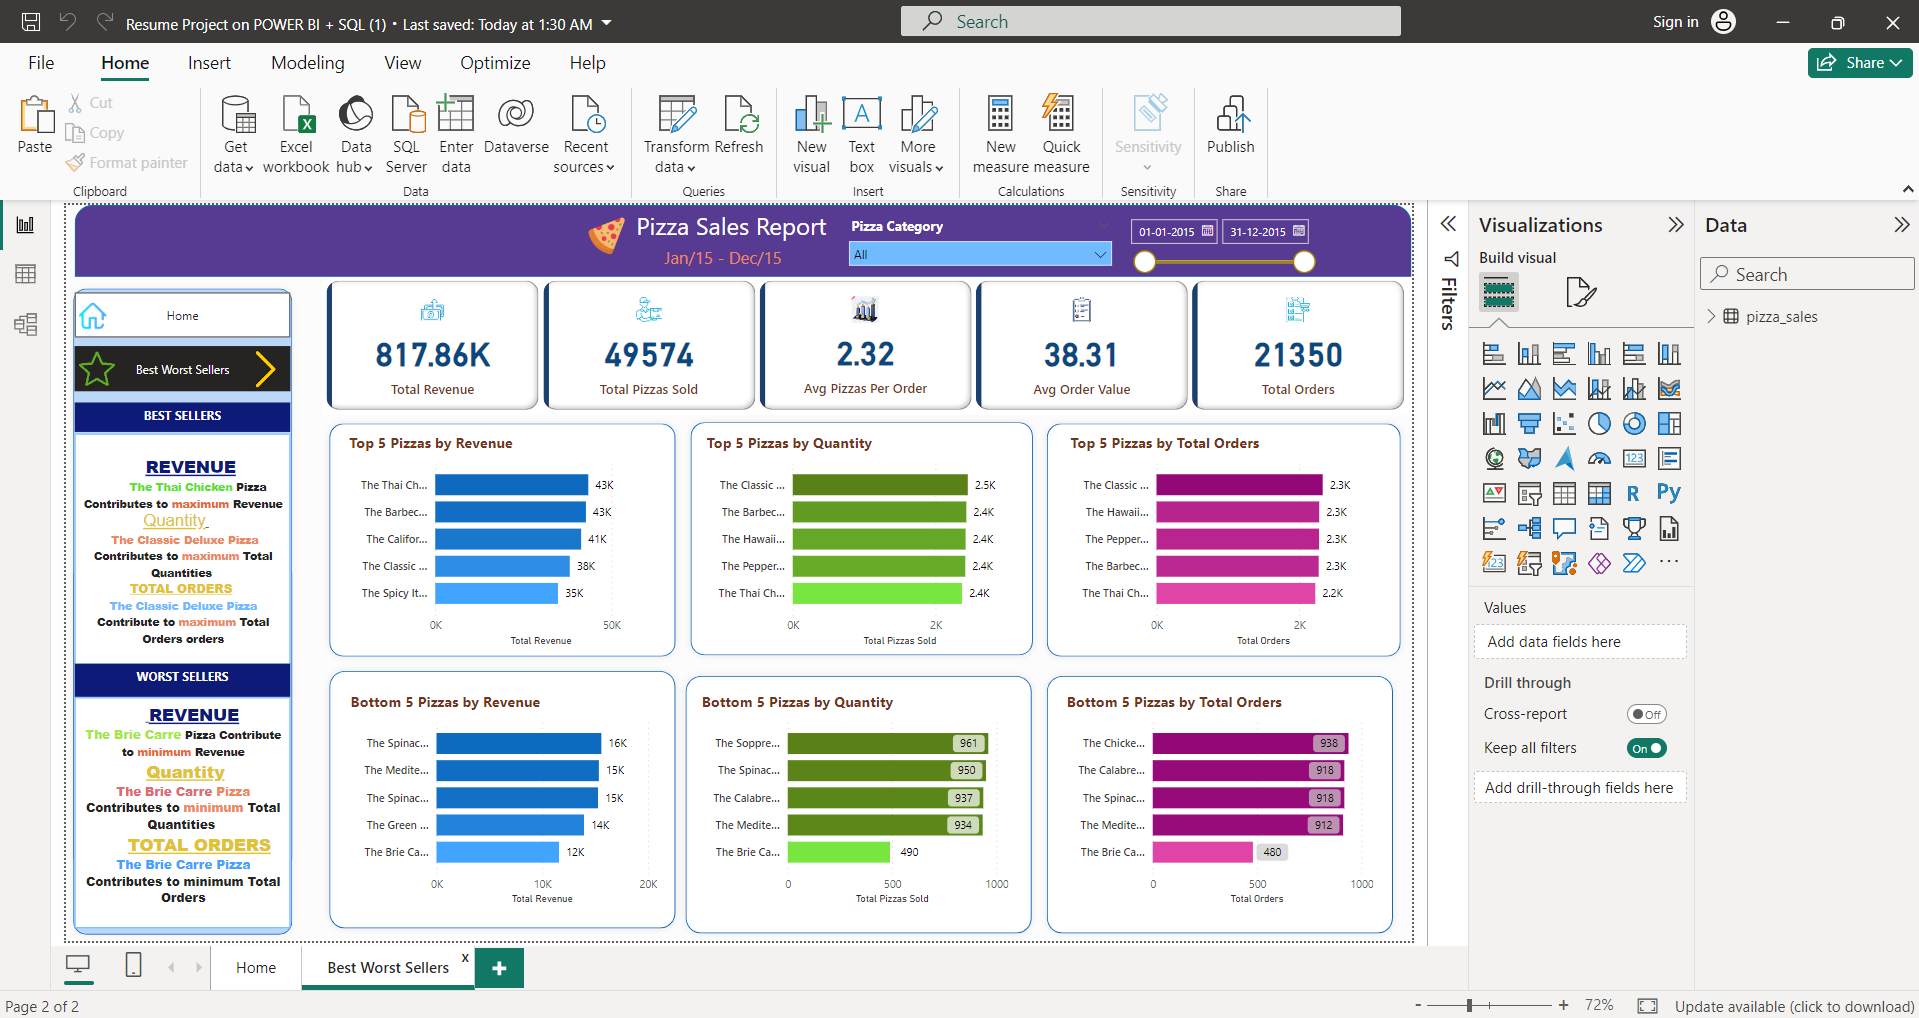

This screenshot's page, from the dashboard's own definition file:
{"tool":"powerbi","page":{"name":"Best Worst Sellers","canvas":[1500,820],"ordinal":1},"visuals":[{"type":"cardVisual","fields":{"Data":["pizza_sales.Total Revenue","pizza_sales.Total Pizzas Sold","pizza_sales.Avg Pizzas Per Order","pizza_sales.Avg Order Value","pizza_sales.Total Orders"]},"box":[285.7,80,1214.3,154.3],"z":0},{"type":"shape","box":[10,0,1488.6,80],"z":1000},{"type":"textbox","box":[603.1,0,276.3,50.4],"z":2000},{"type":"textbox","box":[661.6,40.6,169.1,39],"z":3000},{"type":"image","box":[557.5,8.1,91,52],"z":4000},{"type":"shape","box":[285.7,235.7,401.4,275.7],"z":5000},{"type":"shape","box":[0,84.3,260,735.7],"z":6000},{"type":"textbox","box":[10,220,240,32.9],"z":7000},{"type":"textbox","box":[10,254.3,240,257.1],"z":8000},{"type":"textbox","box":[10,548.6,240,257.1],"z":9000},{"type":"textbox","box":[10,511.4,240,37.1],"z":10000},{"type":"slicer","fields":{"Values":["pizza_sales.pizza_category"]},"box":[861.4,8.6,312.9,70],"z":11000},{"type":"slicer","fields":{"Values":["pizza_sales.order_date"]},"box":[1174.3,5.7,227.1,72.9],"z":12000},{"type":"shape","box":[687.1,234.3,397.1,275.7],"z":13000},{"type":"shape","box":[1084.3,235.7,410,275.7],"z":14000},{"type":"shape","box":[285.7,511.4,401.4,302.9],"z":15000},{"type":"shape","box":[682.9,517.1,401.4,302.9],"z":16000},{"type":"shape","box":[1084.3,517.1,401.4,302.9],"z":17000},{"type":"barChart","title":"Top 5 Pizzas by Revenue","fields":{"Category":["pizza_sales.pizza_name"],"Y":["pizza_sales.Total Revenue"]},"box":[310,252.9,351.4,242.9],"z":18000},{"type":"barChart","title":"Bottom 5 Pizzas by Revenue","fields":{"Category":["pizza_sales.pizza_name"],"Y":["pizza_sales.Total Revenue"]},"box":[311.4,541.4,351.4,242.9],"z":19000},{"type":"barChart","title":"Top 5 Pizzas by Quantity","fields":{"Category":["pizza_sales.pizza_name"],"Y":["pizza_sales.Total Pizzas Sold"]},"box":[708.6,252.9,351.4,242.9],"z":20000},{"type":"barChart","title":"Bottom 5 Pizzas by Quantity","fields":{"Category":["pizza_sales.pizza_name"],"Y":["pizza_sales.Total Pizzas Sold"]},"box":[702.9,541.4,351.4,242.9],"z":21000},{"type":"barChart","title":"Top 5 Pizzas by Total Orders","fields":{"Category":["pizza_sales.pizza_name"],"Y":["pizza_sales.Total Orders"]},"box":[1114.3,252.9,351.4,242.9],"z":22000},{"type":"barChart","title":"Bottom 5 Pizzas by Total Orders","fields":{"Category":["pizza_sales.pizza_name"],"Y":["pizza_sales.Total Orders"]},"box":[1110,541.4,351.4,242.9],"z":23000},{"type":"pageNavigator","box":[10,97.1,240,50],"z":23001},{"type":"pageNavigator","box":[10,157.1,240,50],"z":23002},{"type":"image","box":[192.9,157.1,57.1,51.4],"z":23003},{"type":"image","box":[10,100,40,47.1],"z":23004},{"type":"image","box":[10,155.7,50,52.9],"z":23005}]}

Visuals, with their boxes on the page's 1500x820 design canvas (x1, y1, x2, y2). These are canvas units, not pixel positions in the 1919x1018 screenshot, which may show the page scaled, cropped or inside an application window:
cardVisual - pizza_sales.Total Revenue x pizza_sales.Total Pizzas Sold: {"left": 286, "top": 80, "right": 1500, "bottom": 234}
shape: {"left": 10, "top": 0, "right": 1499, "bottom": 80}
textbox: {"left": 603, "top": 0, "right": 879, "bottom": 50}
textbox: {"left": 662, "top": 41, "right": 831, "bottom": 80}
image: {"left": 558, "top": 8, "right": 648, "bottom": 60}
shape: {"left": 286, "top": 236, "right": 687, "bottom": 511}
shape: {"left": 0, "top": 84, "right": 260, "bottom": 820}
textbox: {"left": 10, "top": 220, "right": 250, "bottom": 253}
textbox: {"left": 10, "top": 254, "right": 250, "bottom": 511}
textbox: {"left": 10, "top": 549, "right": 250, "bottom": 806}
textbox: {"left": 10, "top": 511, "right": 250, "bottom": 548}
slicer - pizza_sales.pizza_category: {"left": 861, "top": 9, "right": 1174, "bottom": 79}
slicer - pizza_sales.order_date: {"left": 1174, "top": 6, "right": 1401, "bottom": 79}
shape: {"left": 687, "top": 234, "right": 1084, "bottom": 510}
shape: {"left": 1084, "top": 236, "right": 1494, "bottom": 511}
shape: {"left": 286, "top": 511, "right": 687, "bottom": 814}
shape: {"left": 683, "top": 517, "right": 1084, "bottom": 820}
shape: {"left": 1084, "top": 517, "right": 1486, "bottom": 820}
"Top 5 Pizzas by Revenue" barChart: {"left": 310, "top": 253, "right": 661, "bottom": 496}
"Bottom 5 Pizzas by Revenue" barChart: {"left": 311, "top": 541, "right": 663, "bottom": 784}
"Top 5 Pizzas by Quantity" barChart: {"left": 709, "top": 253, "right": 1060, "bottom": 496}
"Bottom 5 Pizzas by Quantity" barChart: {"left": 703, "top": 541, "right": 1054, "bottom": 784}
"Top 5 Pizzas by Total Orders" barChart: {"left": 1114, "top": 253, "right": 1466, "bottom": 496}
"Bottom 5 Pizzas by Total Orders" barChart: {"left": 1110, "top": 541, "right": 1461, "bottom": 784}
pageNavigator: {"left": 10, "top": 97, "right": 250, "bottom": 147}
pageNavigator: {"left": 10, "top": 157, "right": 250, "bottom": 207}
image: {"left": 193, "top": 157, "right": 250, "bottom": 208}
image: {"left": 10, "top": 100, "right": 50, "bottom": 147}
image: {"left": 10, "top": 156, "right": 60, "bottom": 209}
